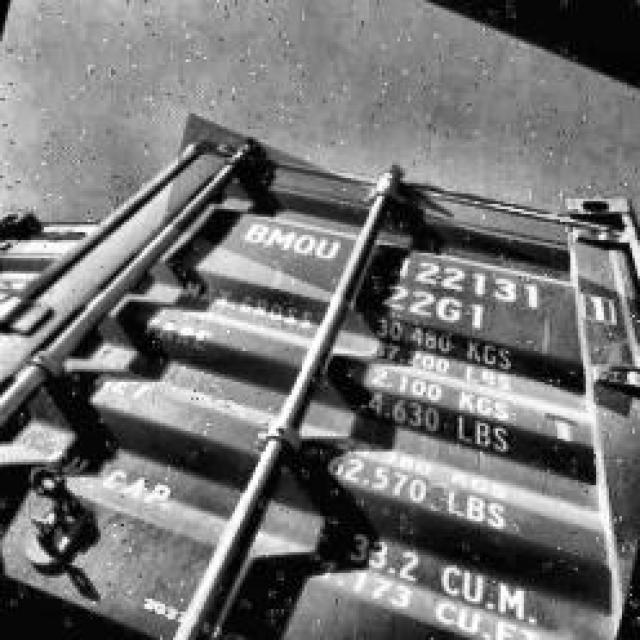ISO: (388, 274, 488, 334)
container_number: (244, 216, 624, 327)
